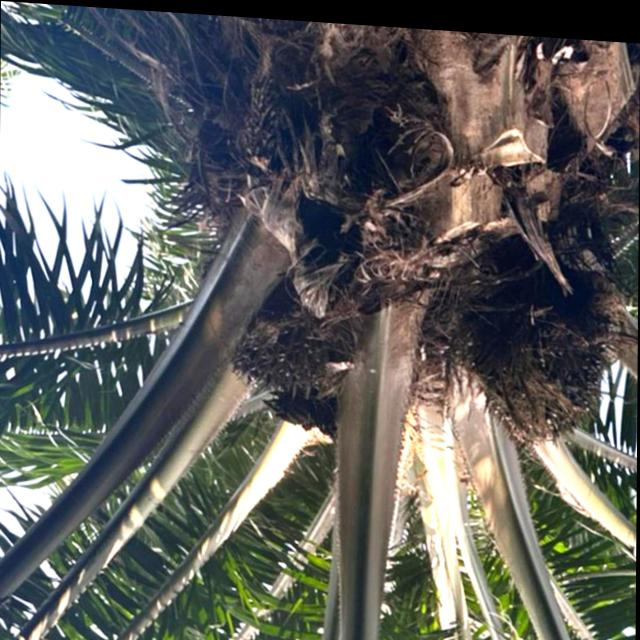ripe: (216, 288, 360, 407)
